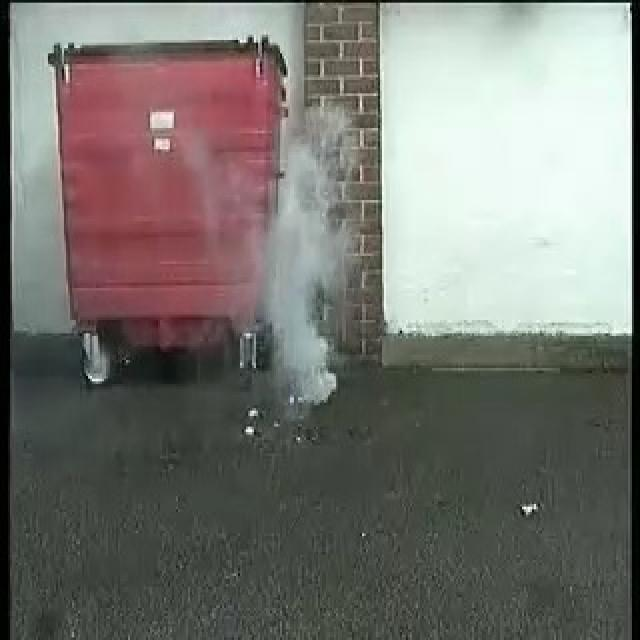smoke: (256, 104, 350, 406)
